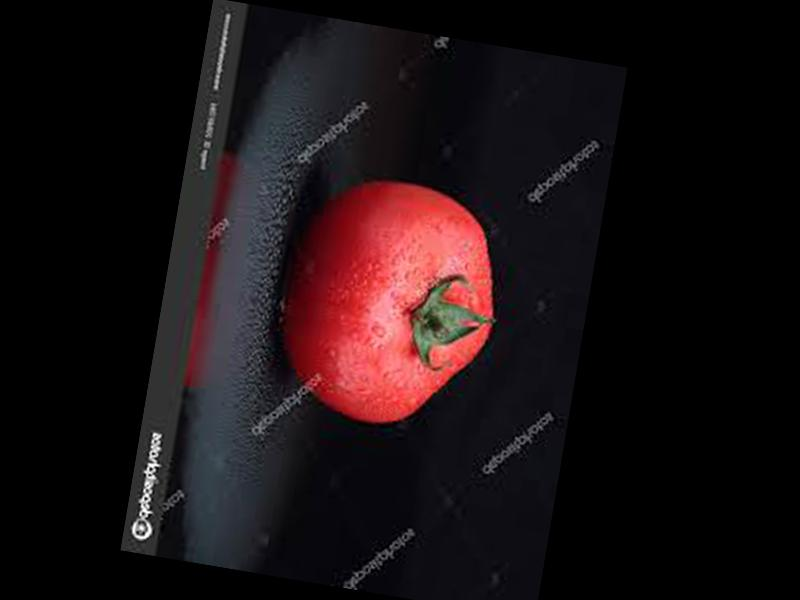Tomato: (266, 164, 515, 440)
